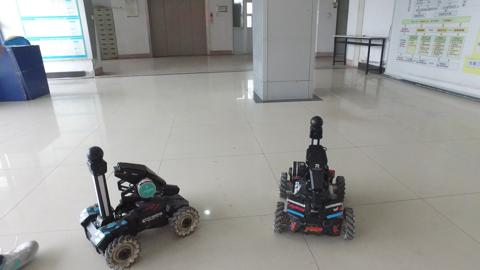chariot: (70, 147, 202, 268), (269, 113, 358, 247)
